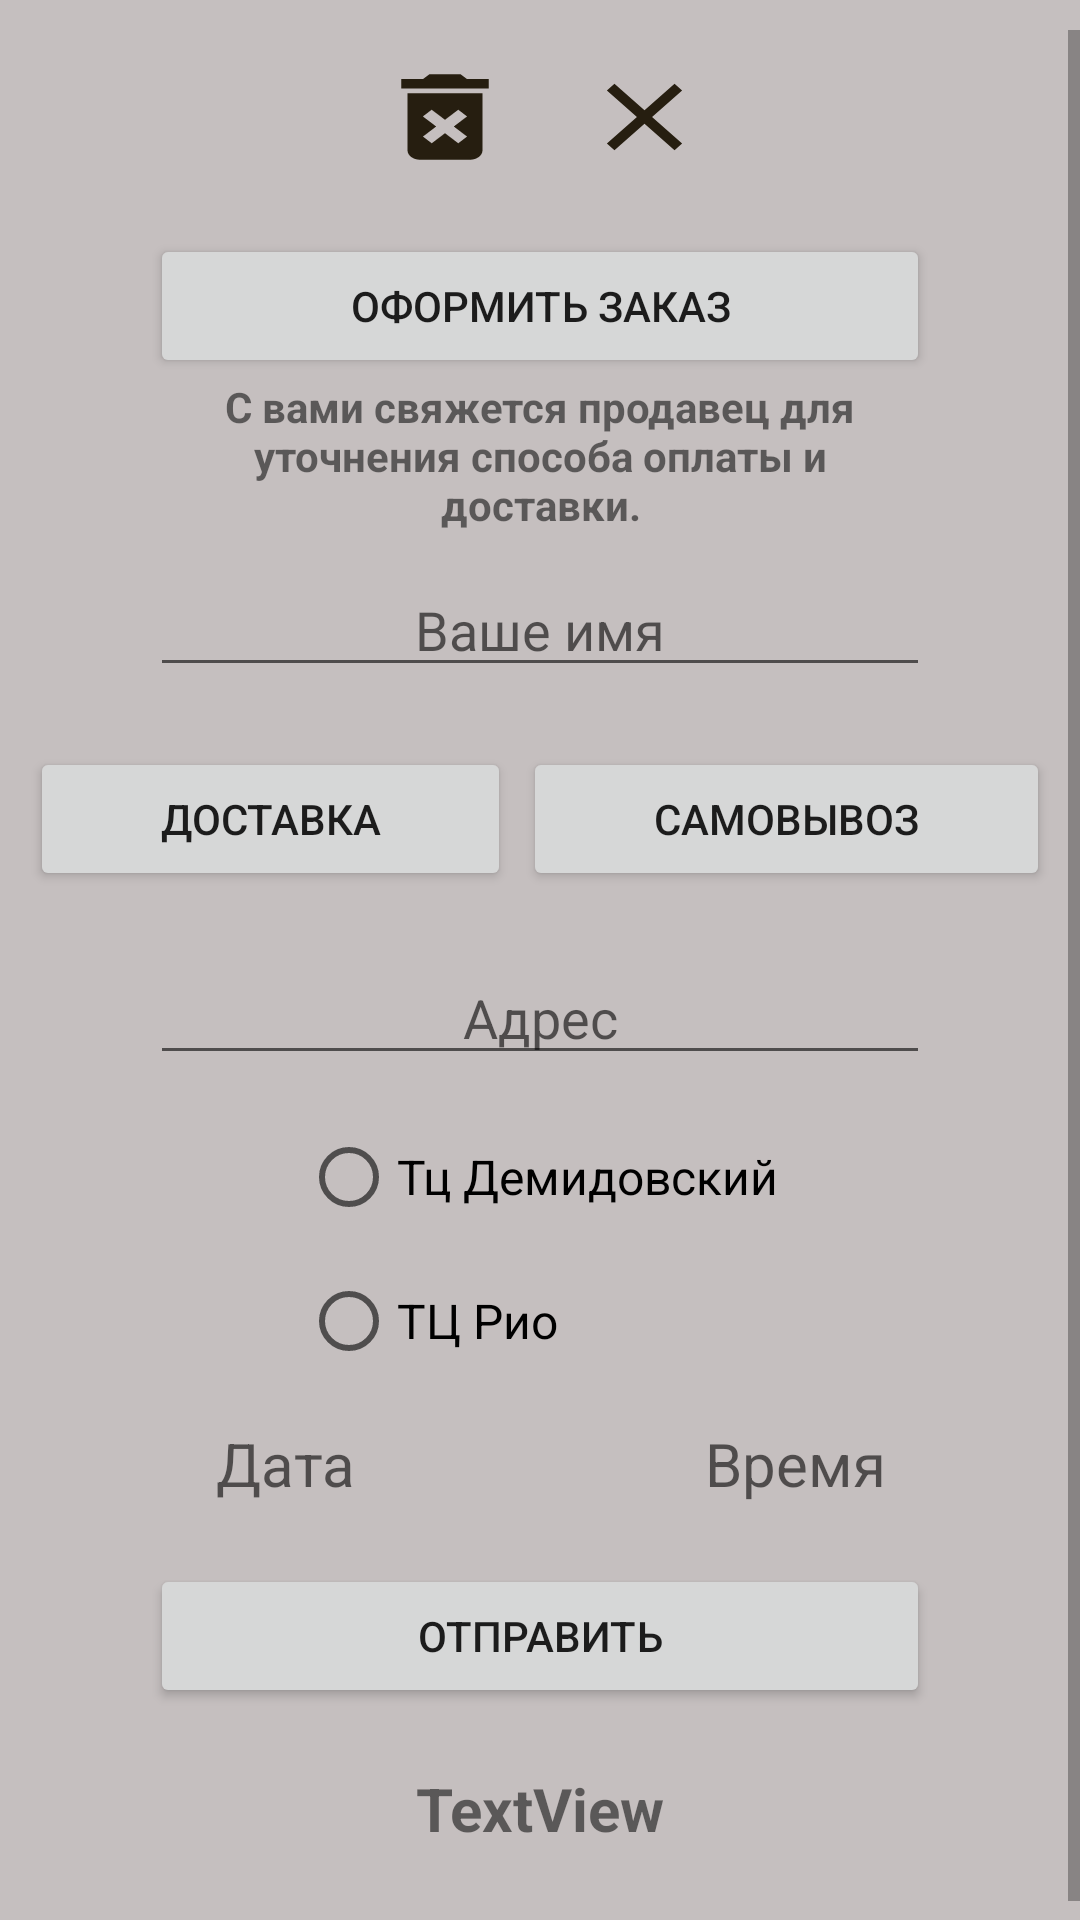

Locate icon controls on the screen. Image size 1080 × 1920, boxes as bbox(x1, y1, x2, y2).
close: bbox(607, 84, 682, 150)
delete forever: bbox(401, 74, 489, 160)
